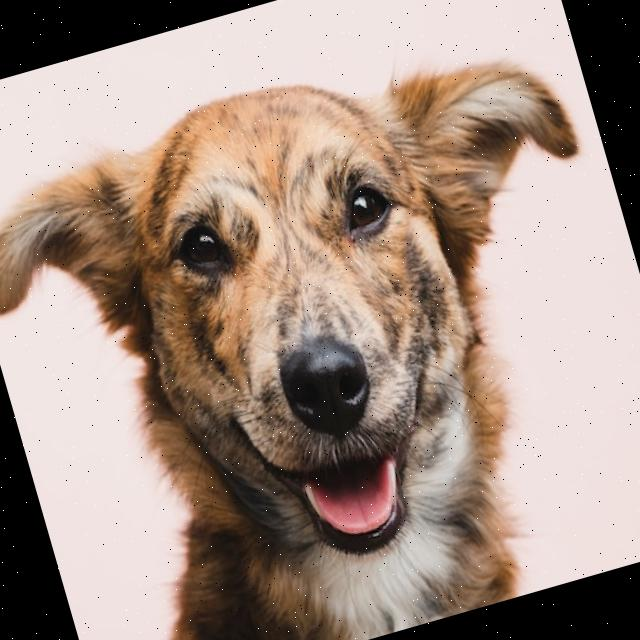Dog: (0, 4, 640, 640)
